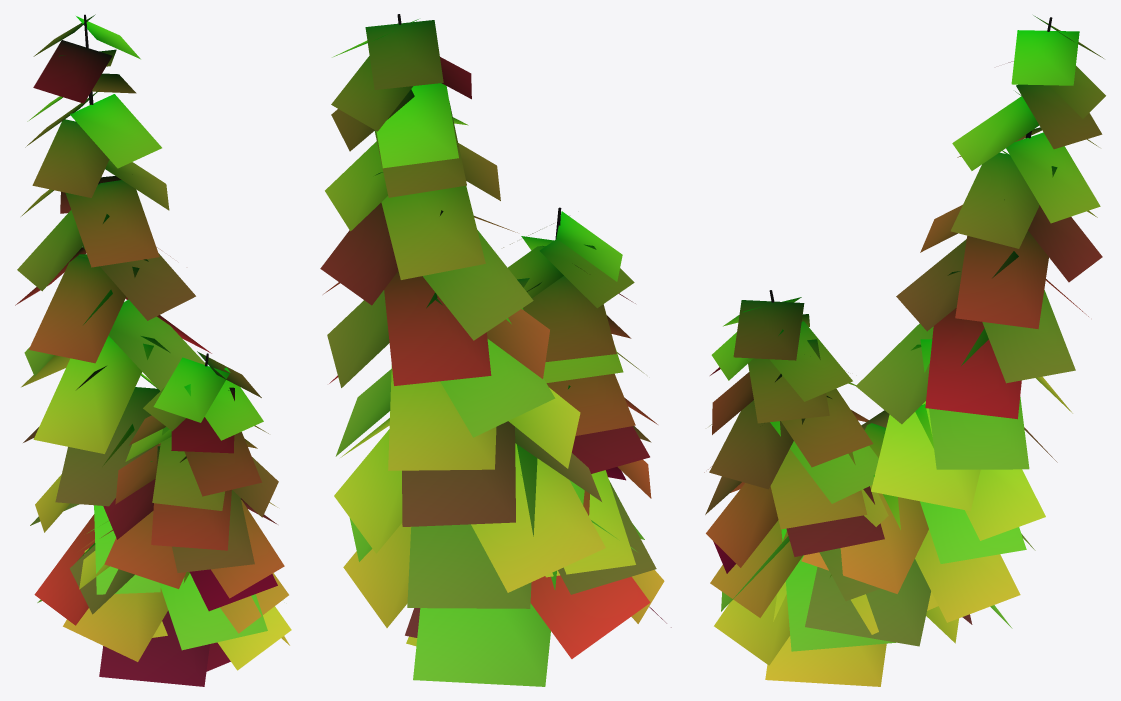
File: Tree_14.fbx
The picture shows the model from 3 angles, left to right: view 1: azimuth 30°, elevation 25°; view 2: azimuth 150°, elevation 25°; view 3: azimuth 270°, elevation 25°; orthographic projection. The views are drawn at different scales.
Visible parts, largest first — view 1: Tree_14; view 2: Tree_14; view 3: Tree_14.
Part boxes in pixels (x1,y1,x2,y2): Tree_14: (15, 14, 291, 686); Tree_14: (320, 14, 671, 686); Tree_14: (704, 15, 1105, 686).
Bounding box in the file's own units: 783 × 2014 × 1193.
